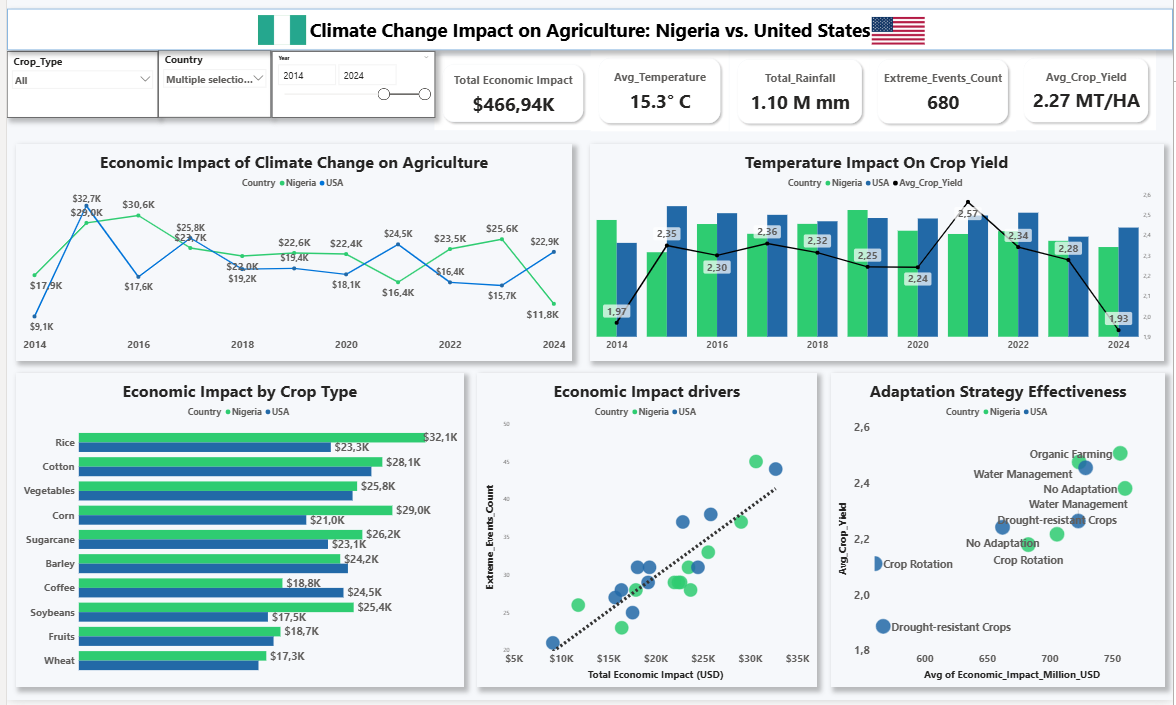

The dashboard page shown, as its layout file describes it:
{"tool":"powerbi","page":{"name":"Group","canvas":[2500,1500],"ordinal":0},"visuals":[{"type":"cardVisual","fields":{"Data":["Dax_measure.Avg_Temperature_Display"]},"box":[1252.7,107.5,295.7,174.7],"z":0},{"type":"cardVisual","fields":{"Data":["Dax_measure.Total_Rainfall_Display"]},"box":[1548.4,110.2,301.1,172],"z":1000},{"type":"cardVisual","fields":{"Data":["Dax_measure.Total_Extreme_Events"]},"box":[1849.5,110.2,314.5,172],"z":2000},{"type":"cardVisual","fields":{"Data":["Dax_measure.Total Economic Impact (Million USD)"]},"box":[916.7,121,336,158.6],"z":3000},{"type":"lineClusteredColumnComboChart","title":"Temperature Impact On Crop Yield ","fields":{"Category":["climate_change_impact_on_agriculture_2024 1 2.Year"],"Y":["Dax_measure.Avg_Temperature"],"Series":["climate_change_impact_on_agriculture_2024 1 2.Country"],"Y2":["Dax_measure.Avg_Crop_Yield"]},"box":[1250,309.1,1231.2,465.1],"z":4000},{"type":"scatterChart","title":"Economic Impact drivers","fields":{"Series":["climate_change_impact_on_agriculture_2024 1 2.Country"],"Y":["Dax_measure.Total_Extreme_Events"],"X":["Dax_measure.Total Economic Impact (USD)"],"Category":["climate_change_impact_on_agriculture_2024 1 2.Year"]},"box":[1008.3,800,727.8,675],"z":5000},{"type":"clusteredBarChart","title":"Economic Impact by Crop Type","fields":{"Category":["climate_change_impact_on_agriculture_2024 1 2.Crop_Type"],"Y":["Dax_measure.Total Economic Impact (USD)"],"Series":["climate_change_impact_on_agriculture_2024 1 2.Country"]},"box":[19.4,800,961.1,675],"z":7000},{"type":"lineChart","title":"Economic Impact of Climate Change on Agriculture","fields":{"Category":["climate_change_impact_on_agriculture_2024 1 2.Year"],"Y":["Dax_measure.Total Economic Impact (USD)"],"Series":["climate_change_impact_on_agriculture_2024 1 2.Country"]},"box":[18.8,309.1,1193.5,465.1],"z":8000},{"type":"cardVisual","fields":{"Data":["Dax_measure.Avg_Crop_Yield_Display"]},"box":[2164,107.5,301.1,172],"z":9000},{"type":"slicer","fields":{"Values":["climate_change_impact_on_agriculture_2024 1 2.Crop_Type"]},"box":[0,110.5,323.7,142.1],"z":10000},{"type":"slicer","fields":{"Values":["climate_change_impact_on_agriculture_2024 1 2.Country"]},"box":[325,108.3,241.7,144.4],"z":11000},{"type":"shape","title":"Climate Change & Agriculture: Nigeria vs. USA","box":[0,19.4,2500,88.9],"z":12000},{"type":"image","box":[1849.5,10.8,123.7,110.2],"z":13000},{"type":"image","box":[532.3,10.8,112.9,107.5],"z":14000},{"type":"scatterChart","title":"Adaptation Strategy Effectiveness ","fields":{"Category":["climate_change_impact_on_agriculture_2024 1 2.Adaptation_Strategies"],"Series":["climate_change_impact_on_agriculture_2024 1 2.Country"],"X":["Avg(Climate_Impact_ Data.Economic_Impact_Million_USD)"],"Y":["Dax_measure.Avg_Crop_Yield"]},"box":[1767.5,800,717.5,675],"z":15000},{"type":"slicer","fields":{"Values":["climate_change_impact_on_agriculture_2024 1 2.Year"]},"box":[567.2,110.2,349.5,142.5],"z":16000}]}

Visuals, with their boxes in screenshot pixels (x1, y1, x2, y2), scaled from the page's 2500x1500 canvas onto the 1176x705 screenshot:
cardVisual - Dax_measure.Avg_Temperature_Display: 589 51 728 133
cardVisual - Dax_measure.Total_Rainfall_Display: 728 52 870 133
cardVisual - Dax_measure.Total_Extreme_Events: 870 52 1018 133
cardVisual - Dax_measure.Total Economic Impact (Million USD): 431 57 589 131
"Temperature Impact On Crop Yield " lineClusteredColumnComboChart: 588 145 1167 364
"Economic Impact drivers" scatterChart: 474 376 817 693
"Economic Impact by Crop Type" clusteredBarChart: 9 376 461 693
"Economic Impact of Climate Change on Agriculture" lineChart: 9 145 570 364
cardVisual - Dax_measure.Avg_Crop_Yield_Display: 1018 51 1160 131
slicer - climate_change_impact_on_agriculture_2024 1 2.Crop_Type: 0 52 152 119
slicer - climate_change_impact_on_agriculture_2024 1 2.Country: 153 51 267 119
"Climate Change & Agriculture: Nigeria vs. USA" shape: 0 9 1175 51
image: 870 5 928 57
image: 250 5 304 56
"Adaptation Strategy Effectiveness " scatterChart: 831 376 1169 693
slicer - climate_change_impact_on_agriculture_2024 1 2.Year: 267 52 431 119
